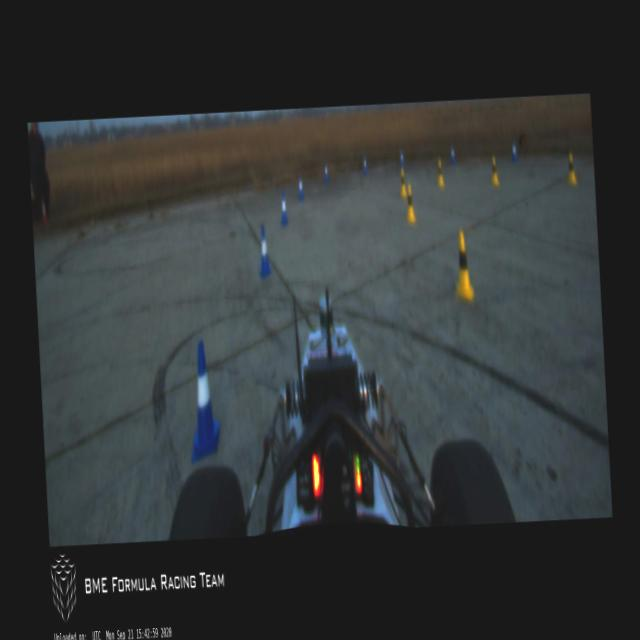blue_cone: (185, 340, 222, 462), (256, 225, 272, 278), (279, 191, 288, 225), (398, 148, 406, 170), (297, 177, 304, 200), (510, 142, 518, 162), (362, 154, 368, 176), (450, 144, 456, 166), (324, 163, 329, 184)
yellow_cone: (453, 229, 475, 304), (404, 184, 416, 224), (566, 152, 578, 185), (490, 156, 500, 186), (399, 168, 407, 198), (437, 158, 445, 187)
